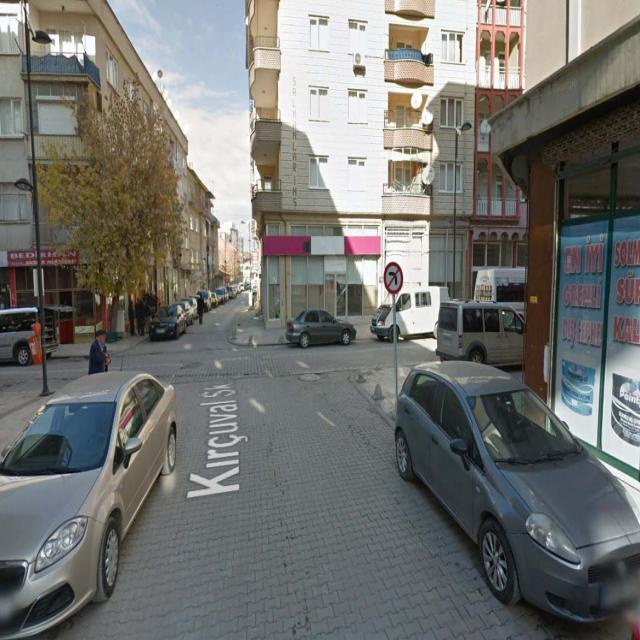soladonulmez: (384, 260, 403, 295)
